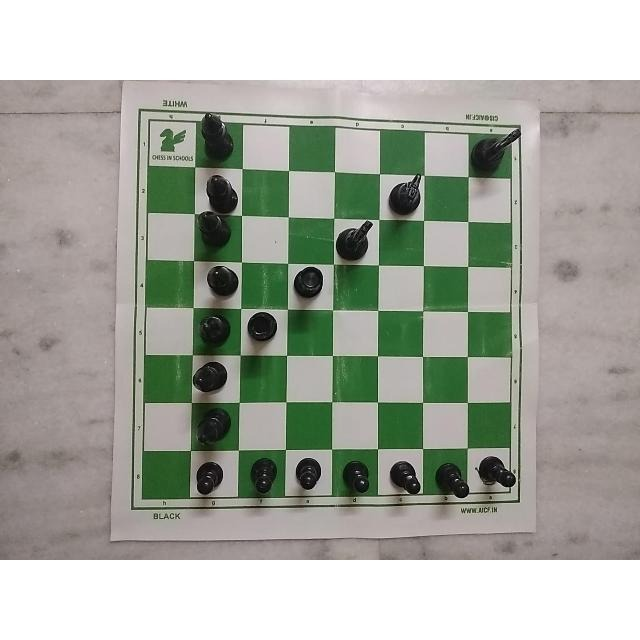black-bishop: (180, 359, 230, 405), (193, 201, 238, 251), (199, 105, 235, 165), (201, 261, 244, 307), (196, 312, 240, 353), (195, 410, 241, 448), (203, 169, 237, 216)
black-knight: (468, 124, 523, 176), (338, 218, 378, 264), (391, 173, 425, 214)
black-pawn: (476, 452, 520, 495), (247, 455, 285, 504), (431, 459, 475, 500), (188, 462, 229, 502), (388, 455, 428, 495), (292, 456, 326, 498), (342, 459, 375, 495)
black-rook: (235, 309, 285, 356), (287, 266, 335, 306)
